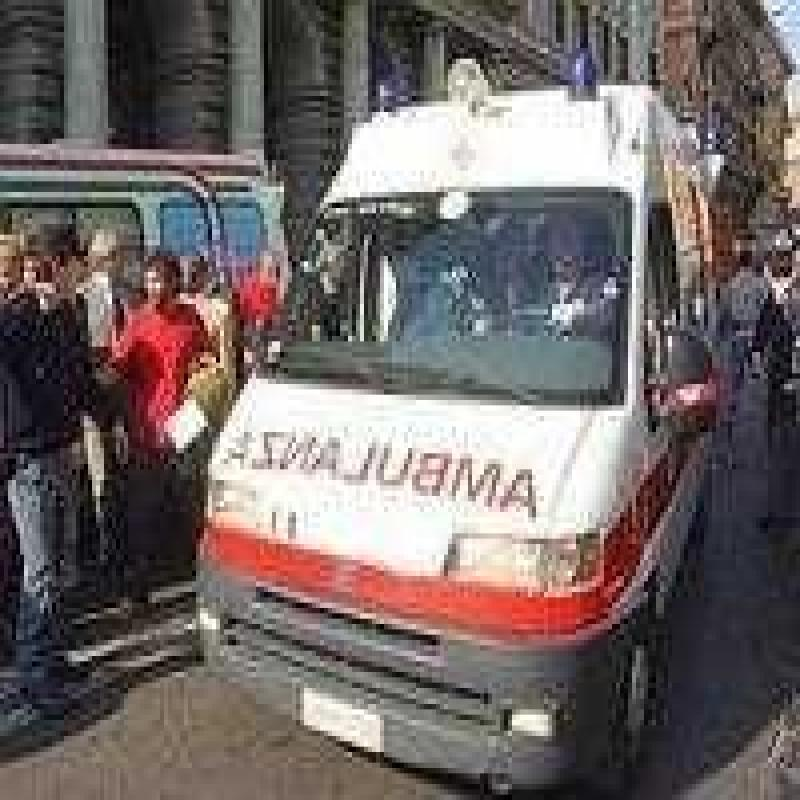AmbulanceSiren: (356, 33, 428, 123), (571, 38, 616, 112)
